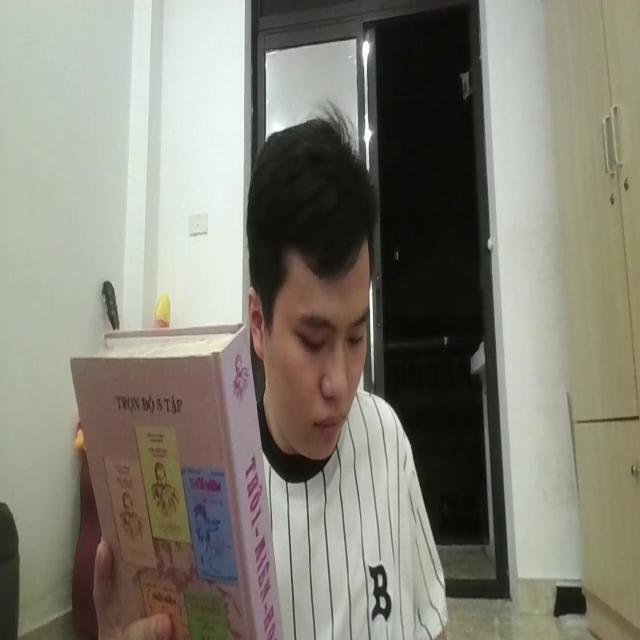book: (64, 323, 282, 640)
student: (244, 114, 448, 640)
